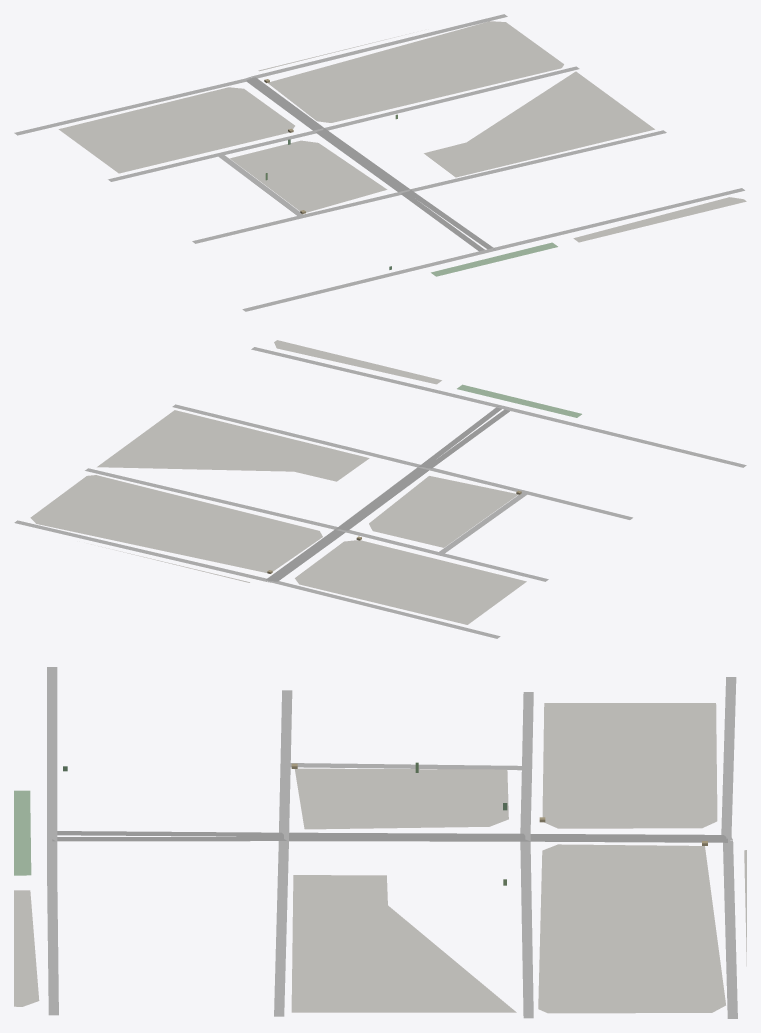
The picture shows the model from 3 angles, top to bottom: view 1: azimuth 30°, elevation 25°; view 2: azimuth 150°, elevation 25°; view 3: azimuth 270°, elevation 25°; orthographic projection. The views are drawn at different scales.
Size of the model in its own units: 561 by 10.05 by 500.
